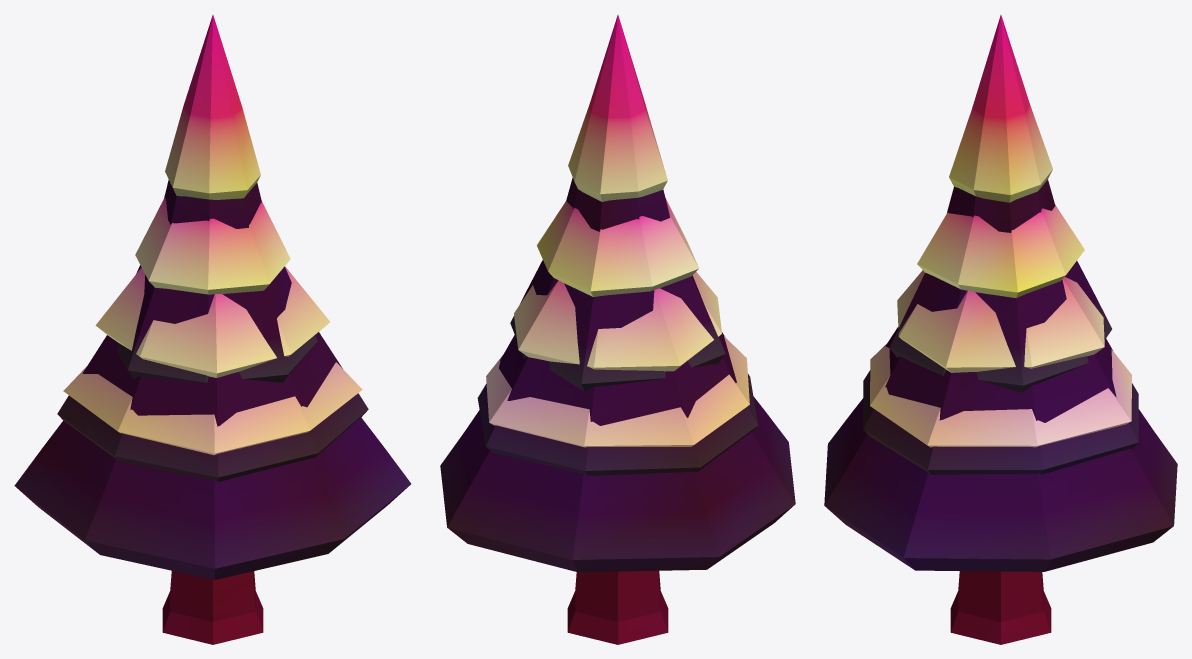
The model's file is Tree_Pine_Snow_Large.glb.
3 renders of one model, left to right at view 1: azimuth 30°, elevation 25°; view 2: azimuth 150°, elevation 25°; view 3: azimuth 270°, elevation 25°, orthographic.
Visible parts, largest first — view 1: Tree_Pine_Snow_Large; view 2: Tree_Pine_Snow_Large; view 3: Tree_Pine_Snow_Large.
Part boxes in pixels (<box>): Tree_Pine_Snow_Large: <box>14,15,411,644</box>; Tree_Pine_Snow_Large: <box>440,15,795,644</box>; Tree_Pine_Snow_Large: <box>824,15,1177,644</box>.
Bounding box in the file's own units: 3.17 × 5.99 × 3.17.
